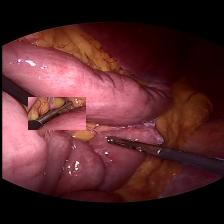Grasper: (99, 133, 167, 163), (27, 98, 85, 130)
